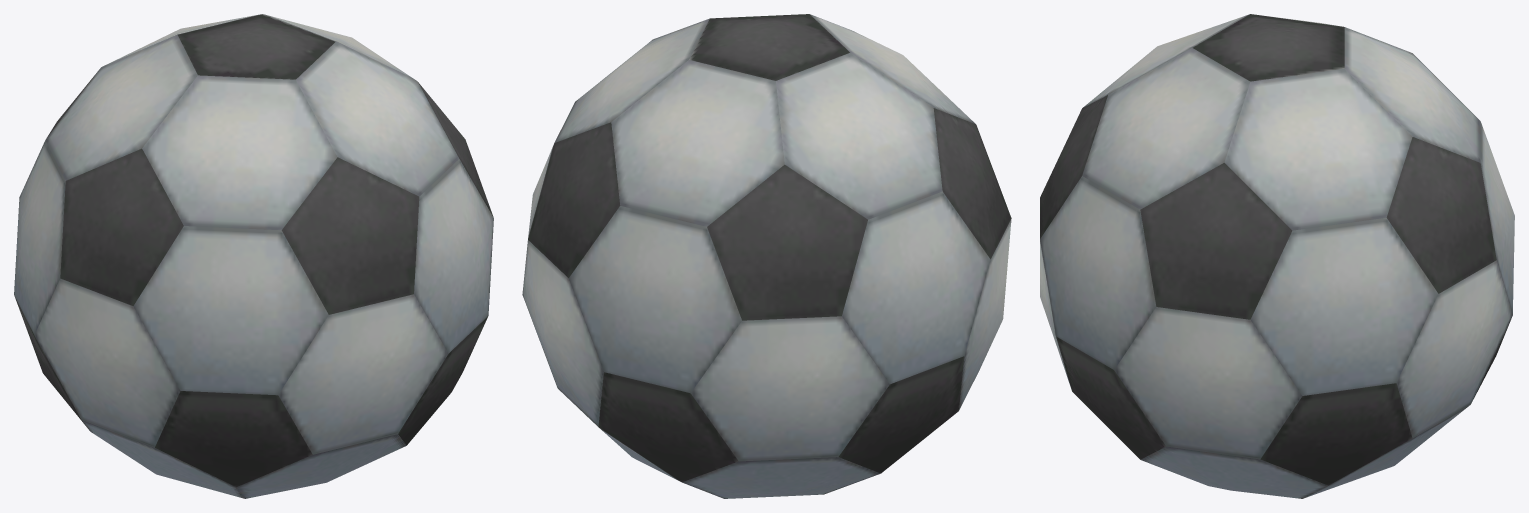
The picture shows the model from 3 angles, left to right: view 1: azimuth 30°, elevation 25°; view 2: azimuth 150°, elevation 25°; view 3: azimuth 270°, elevation 25°; orthographic projection.
Visible parts, largest first — view 1: i011520; view 2: i011520; view 3: i011520.
Part boxes in pixels (x1,y1,x2,y2): i011520: (14, 14, 493, 498); i011520: (522, 14, 1011, 498); i011520: (1040, 14, 1514, 498).
Bounding box in the file's own units: 18.38 × 18.76 × 18.17.
Materials: 1 (1 with a texture image).
